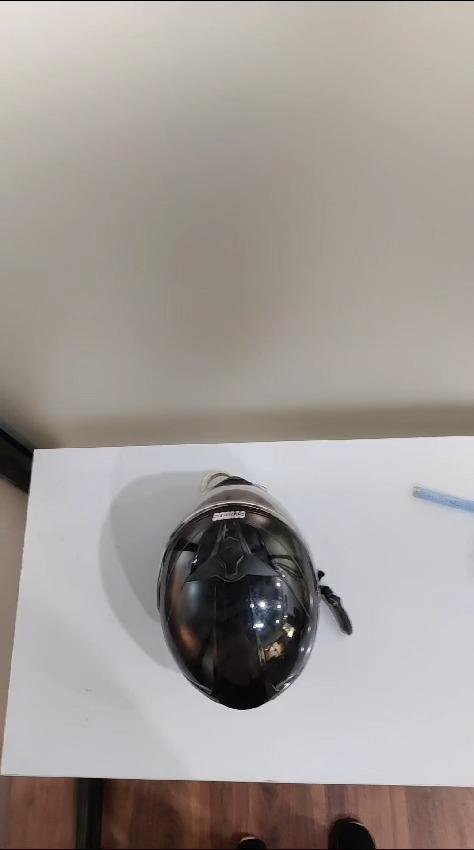Helmet: (136, 484, 327, 721)
